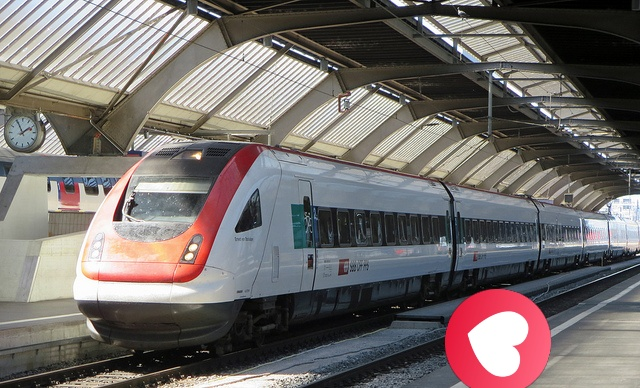love: (445, 289, 551, 388)
